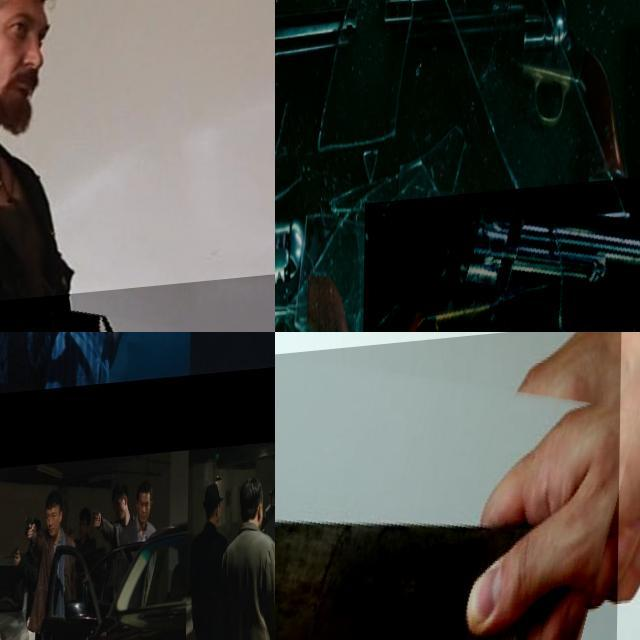-: (275, 332, 621, 640)
gun-knife-thesis - v11 Yolov5 augmented: (362, 187, 640, 332), (275, 221, 389, 332), (111, 332, 145, 372), (41, 332, 60, 372), (24, 514, 35, 542), (10, 548, 22, 570), (91, 511, 101, 532), (0, 549, 4, 567)
